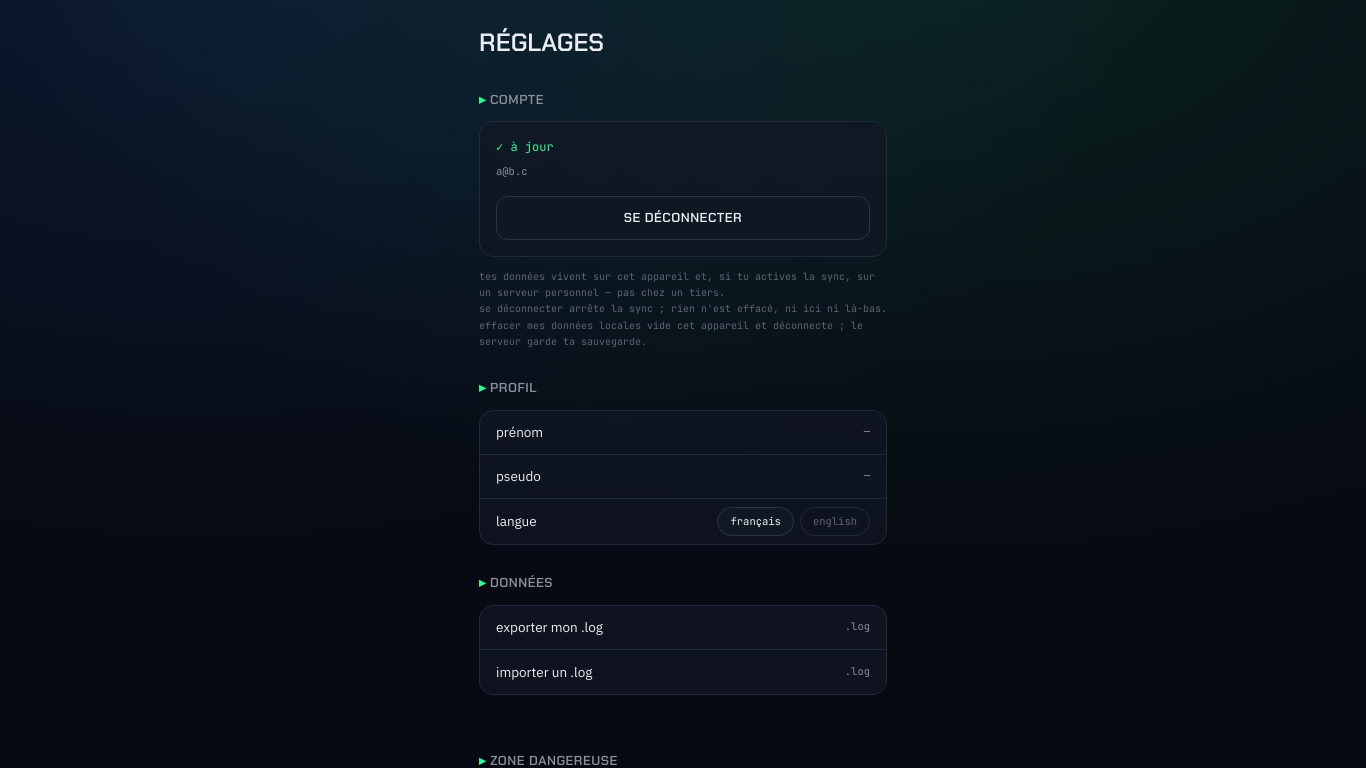
Test: rangée pseudo › rend l erreur du serveur sous le champ quand le pseudo est pris
Click the button "pseudo —" at (518, 476), box [480,454,886,498]
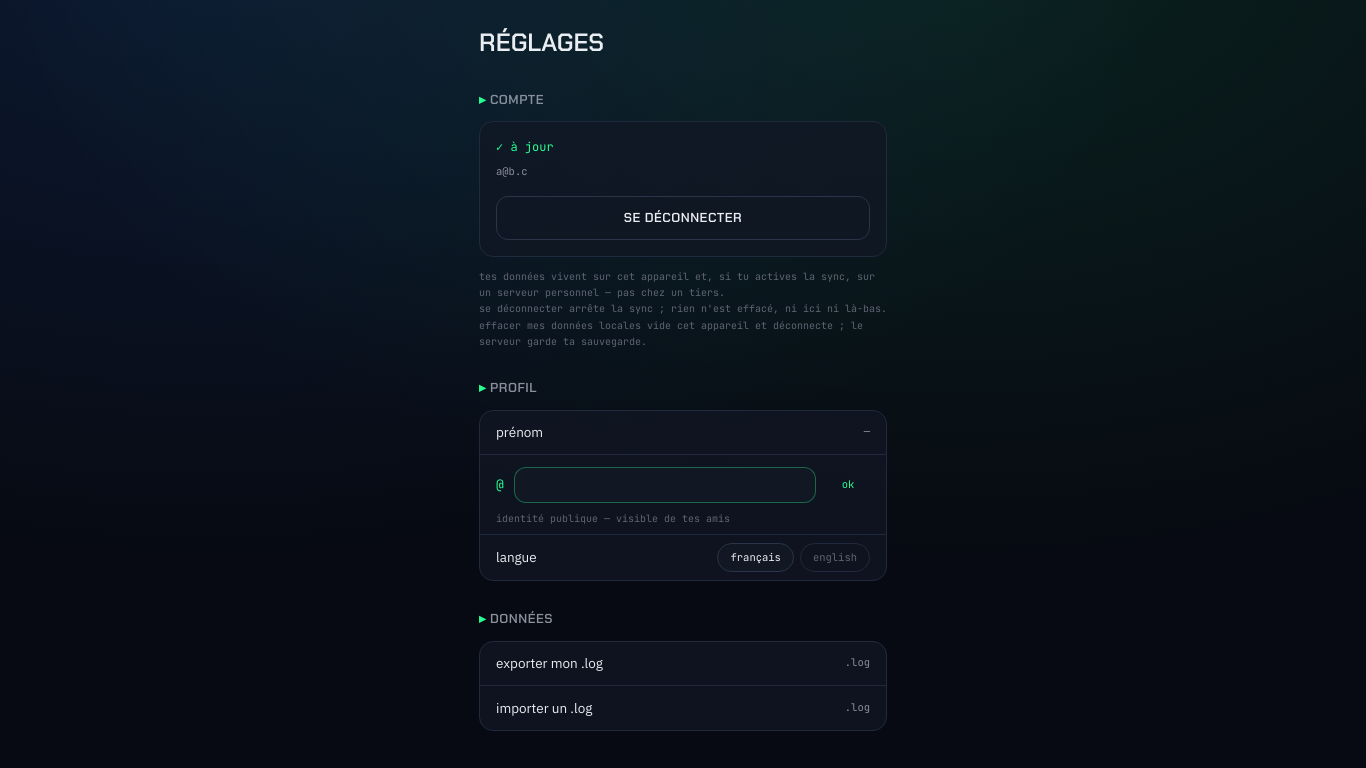
Type "nyx_42" into the field named "pseudo" at (665, 484), box [514,466,816,502]
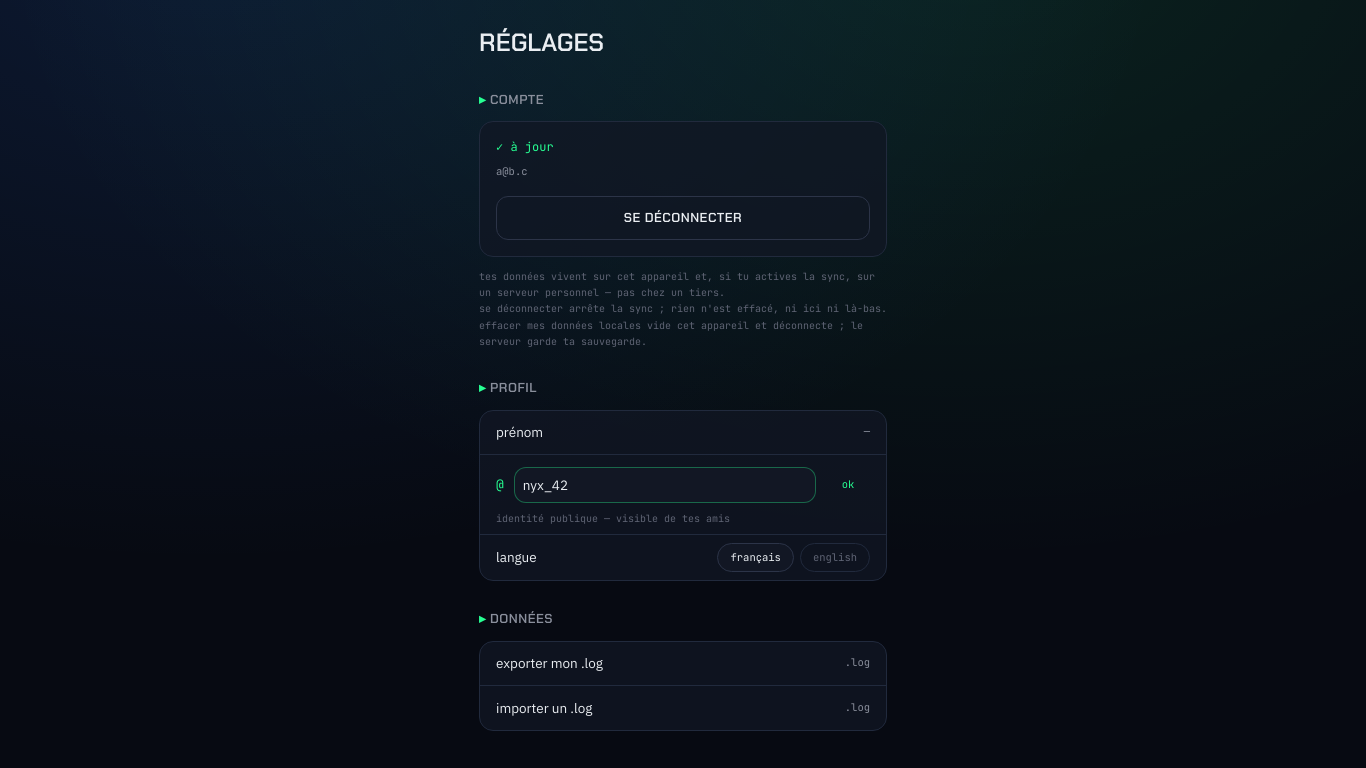
Submit the form named "pseudo", box [480,454,886,534]
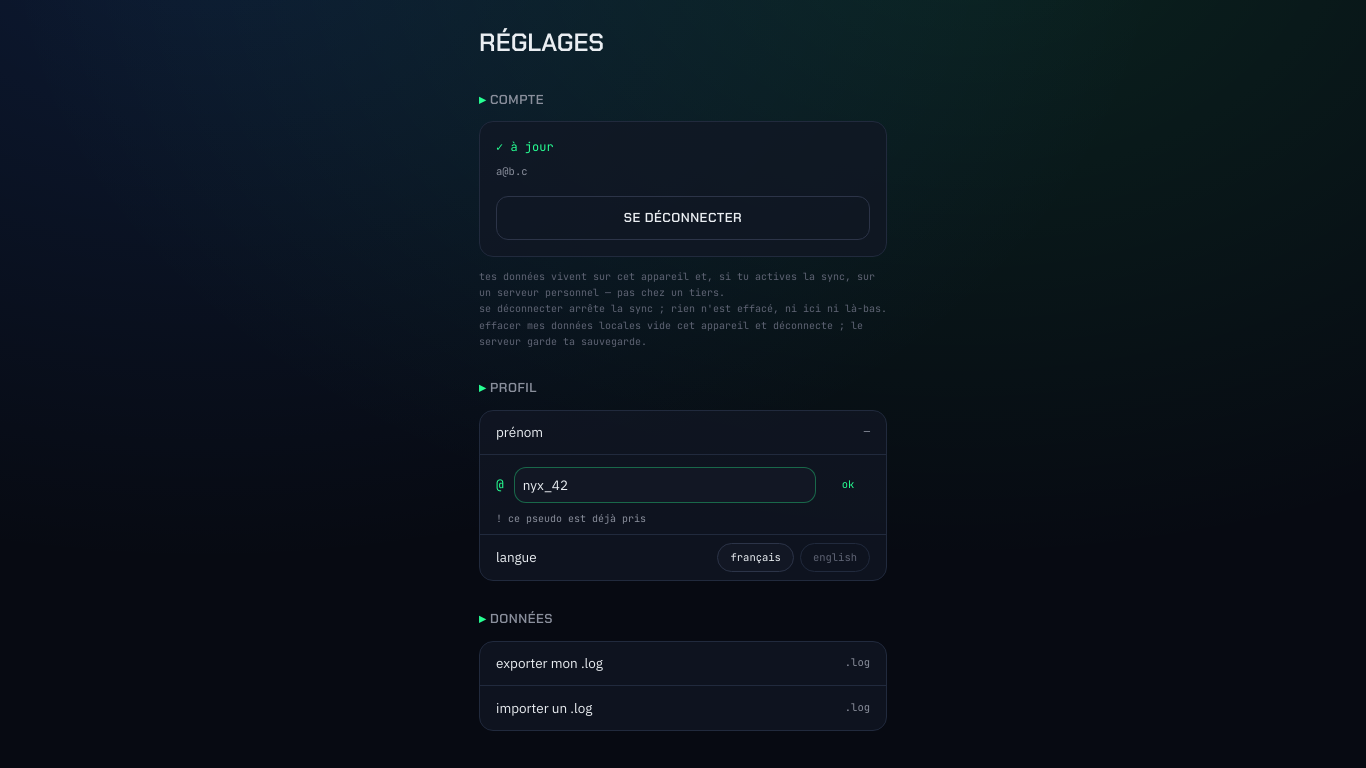
Result: the text "! ce pseudo est déjà pris" is shown at [496,512,646,524]
